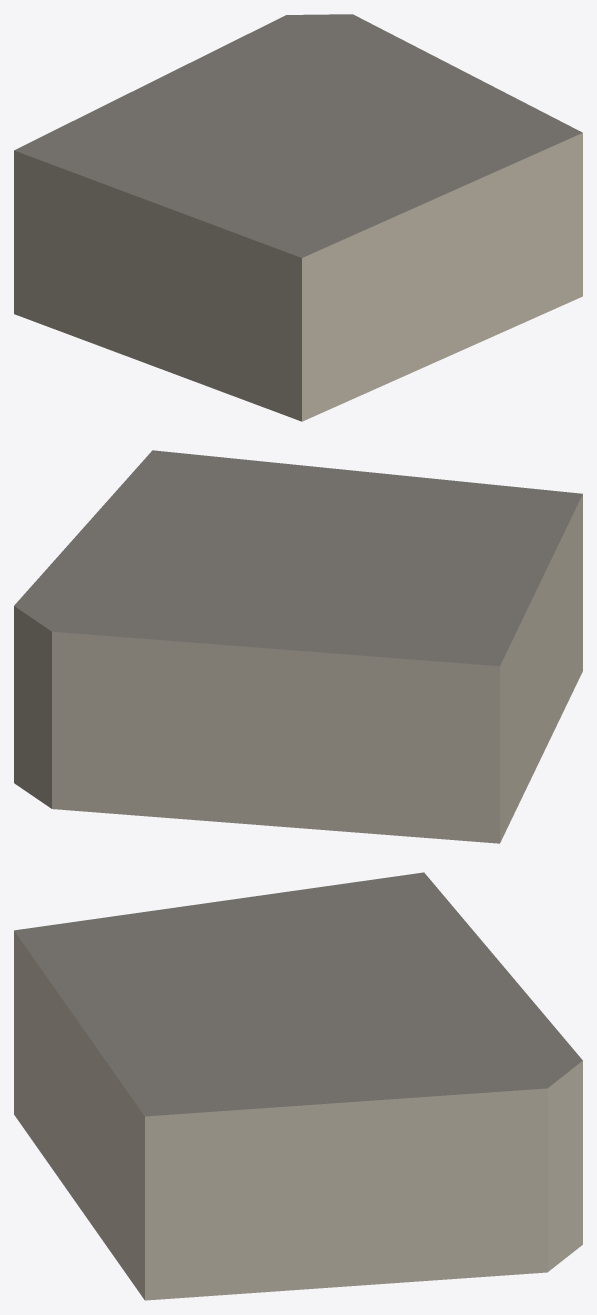
The picture shows the model from 3 angles, top to bottom: view 1: azimuth 30°, elevation 25°; view 2: azimuth 150°, elevation 25°; view 3: azimuth 270°, elevation 25°; orthographic projection. The views are drawn at different scales.
Parts seen in each view (by area): view 1: HP-w414733200; view 2: HP-w414733200; view 3: HP-w414733200.
Part boxes in pixels (bbox=[...]): HP-w414733200: bbox=[14, 14, 582, 421]; HP-w414733200: bbox=[14, 450, 582, 843]; HP-w414733200: bbox=[14, 872, 582, 1300].
Size of the model in its own units: 42.66 by 15 by 42.02.
